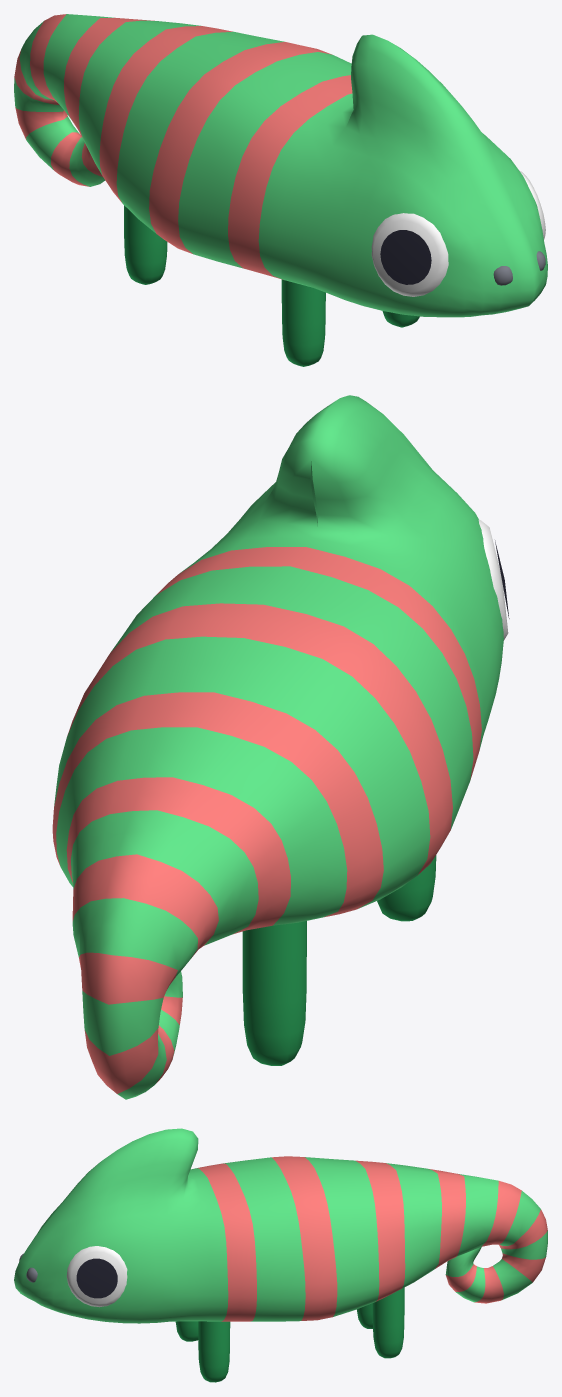
The model's file is Chameleon.glb.
3 renders of one model, top to bottom at view 1: azimuth 30°, elevation 25°; view 2: azimuth 150°, elevation 25°; view 3: azimuth 270°, elevation 25°, orthographic. The views are drawn at different scales.
Visible parts, largest first — view 1: Chameleon; view 2: Chameleon; view 3: Chameleon.
Part boxes in pixels (box(x1,y1,x2,y2)): Chameleon: box(14, 14, 547, 366); Chameleon: box(52, 395, 509, 1099); Chameleon: box(14, 1128, 547, 1382).
Bounding box in the file's own units: 0.9754 × 1.16 × 2.39.
1 material, 1 textured.
